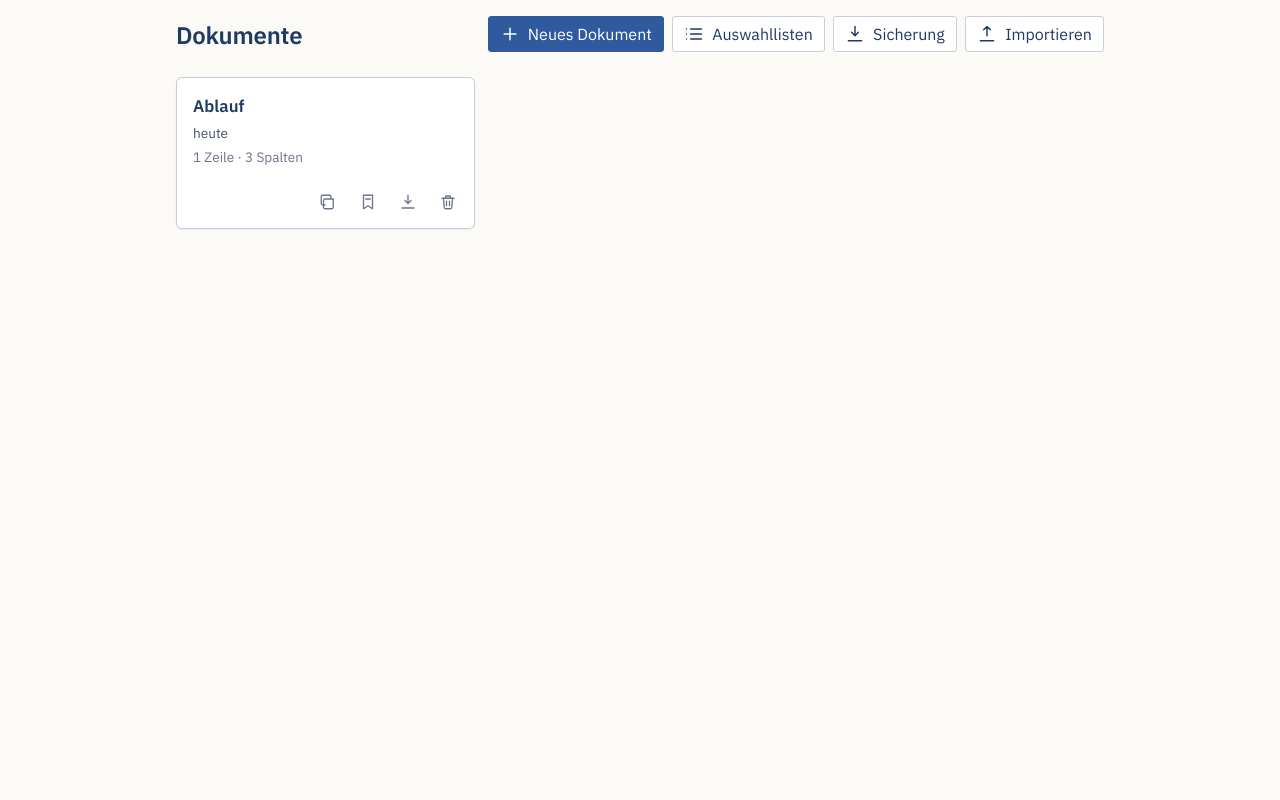
Test: templates › starts a new document from a template, carrying its rows over
The image size is (1280, 800).
Click the button named "Als Vorlage speichern" at (368, 202), box [350,184,386,220]
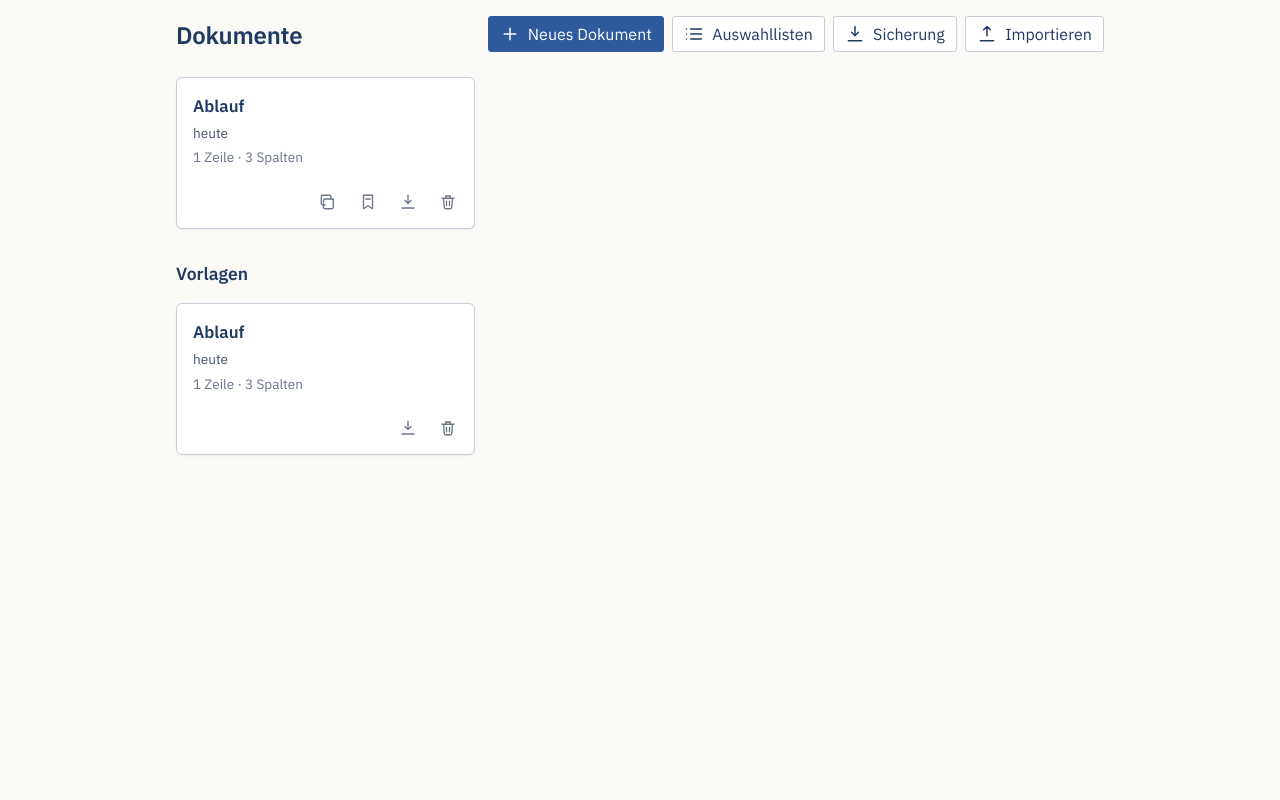
Click the button "Neues Dokument" at (576, 34), box [488,16,664,52]
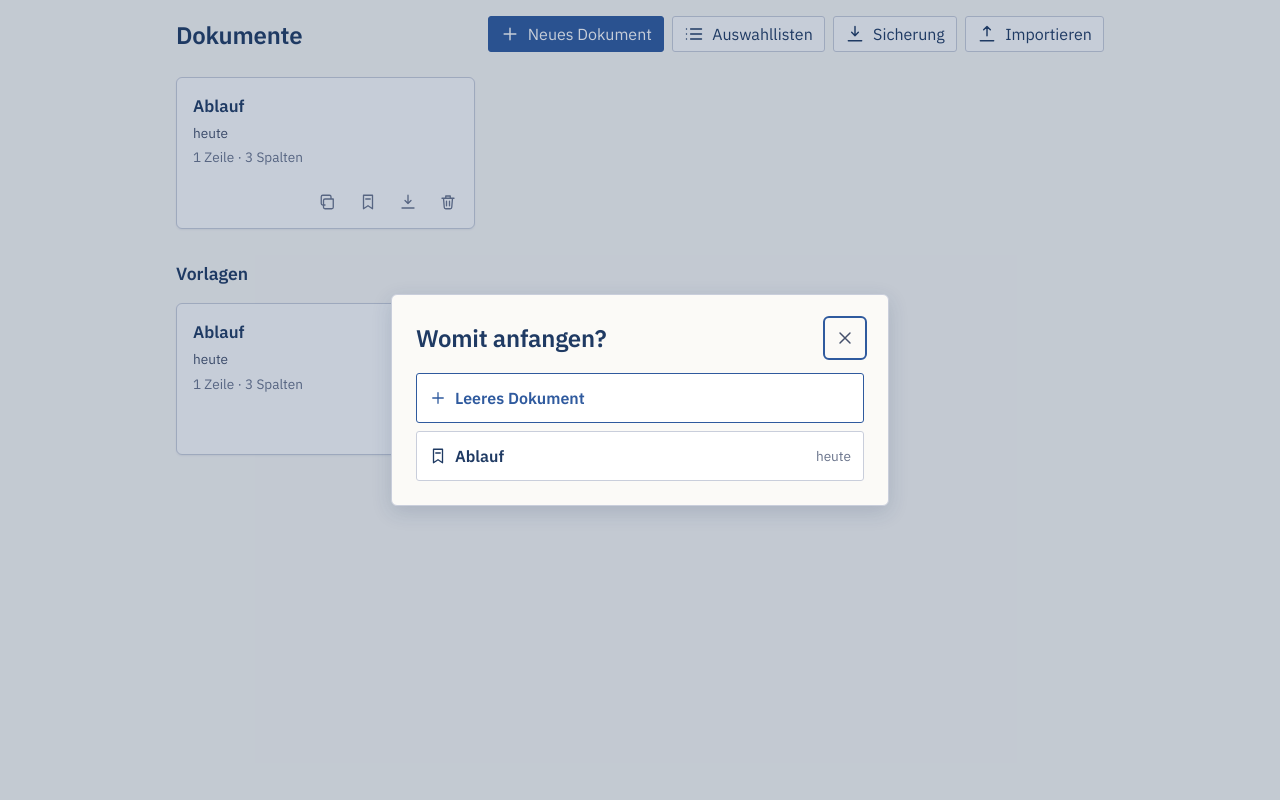
Click the button "Ablauf heute" at (480, 456), box [416,431,864,481]
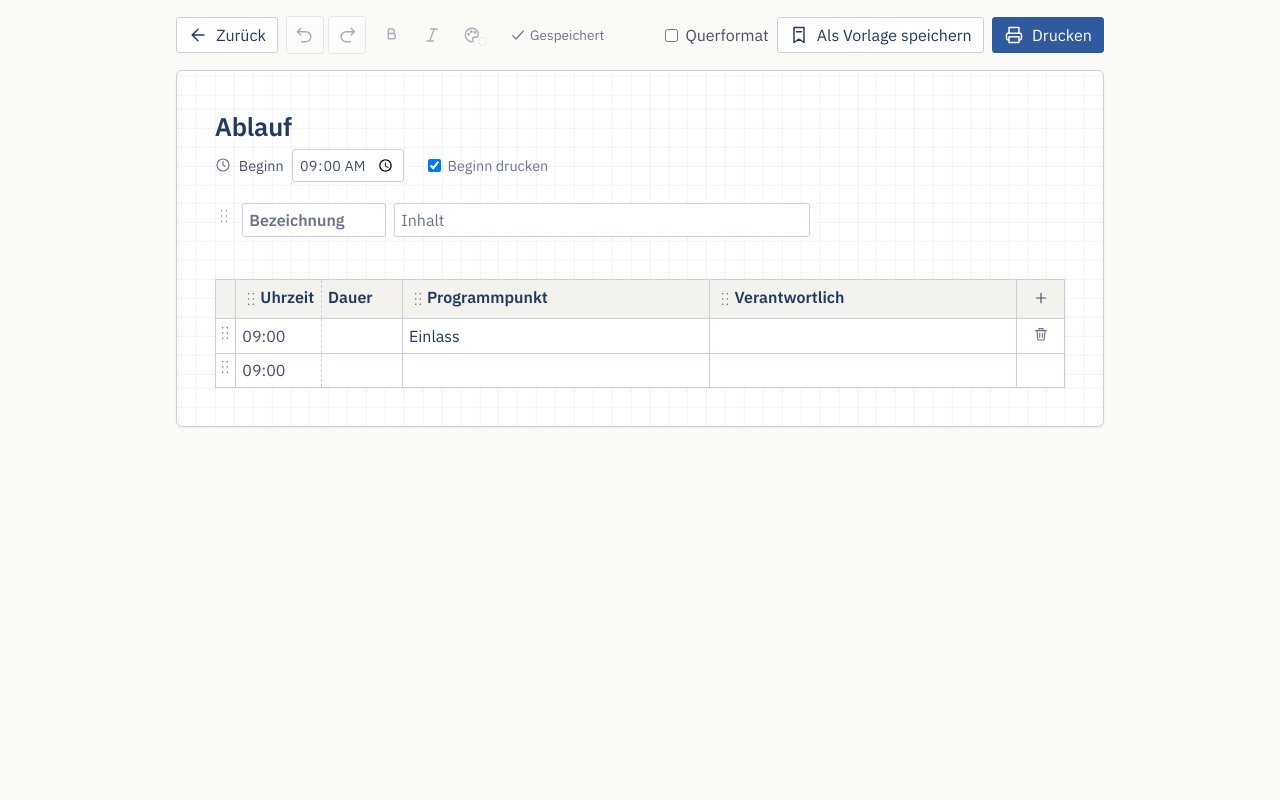
expect the field named "Titel" is shown: met, box [215,109,1065,147]
